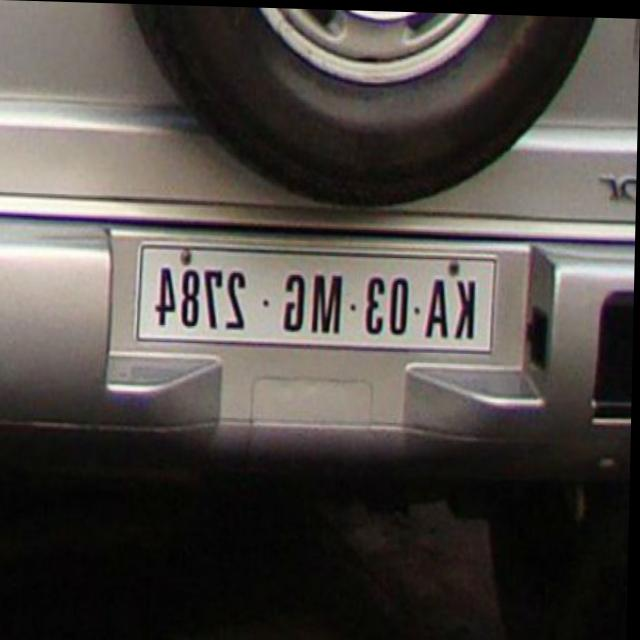licence: (139, 249, 499, 345)
